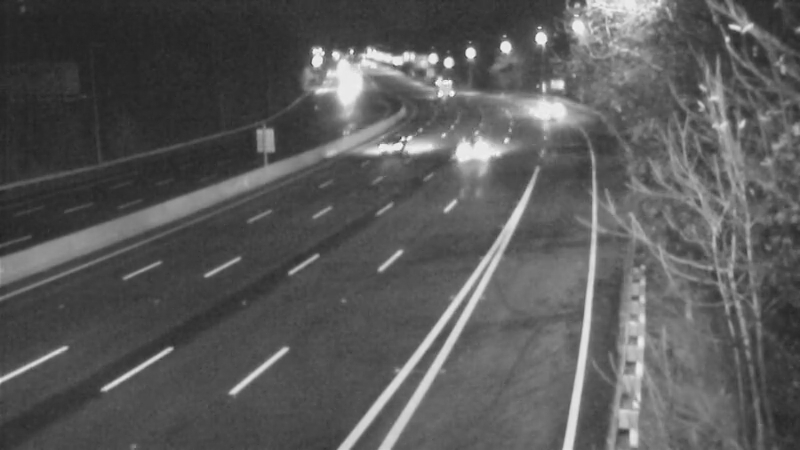vehicle: (414, 64, 464, 114), (521, 82, 571, 132), (446, 125, 496, 175), (323, 66, 373, 116)
